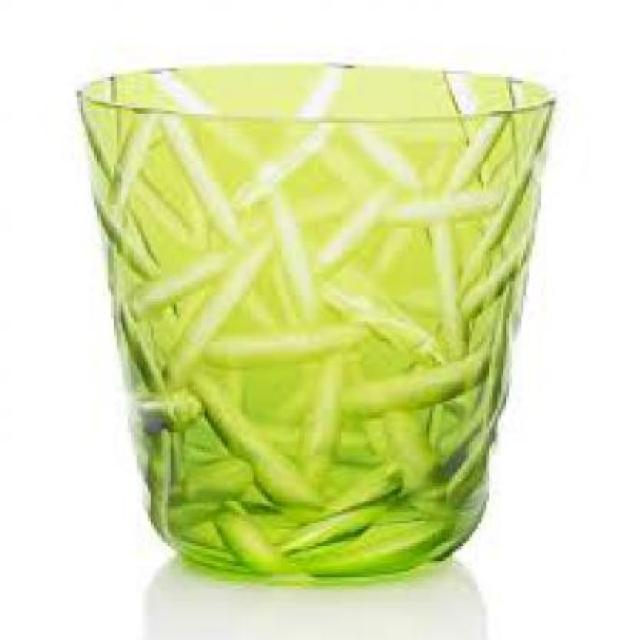GLASS: (74, 62, 555, 575)
